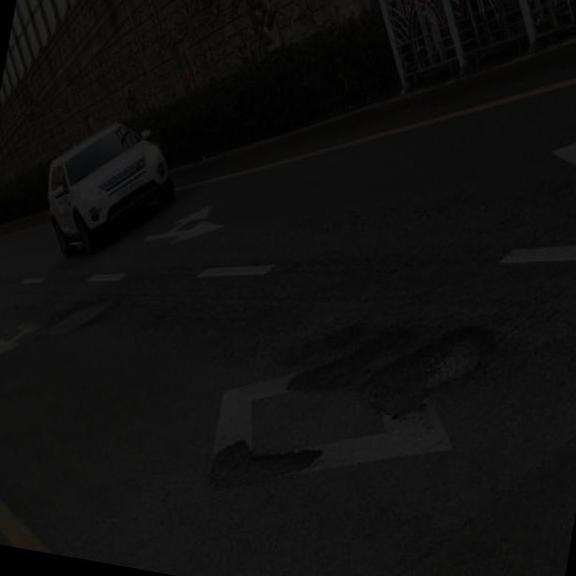pothole: (283, 268, 513, 438), (192, 412, 334, 524), (34, 272, 126, 358)
